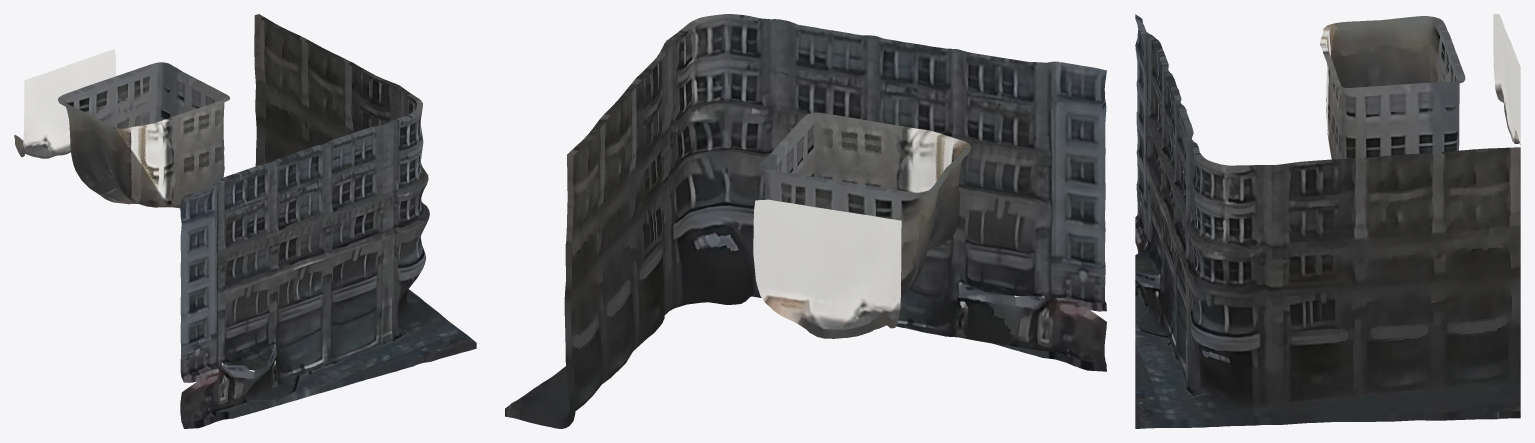
Rendered from z20-167747-405251-h0-yup-uvflip-v3-world.glb.
The picture shows the model from 3 angles, left to right: view 1: azimuth 30°, elevation 25°; view 2: azimuth 150°, elevation 25°; view 3: azimuth 270°, elevation 25°; orthographic projection. The views are drawn at different scales.
Bounding box in the file's own units: 30.2 × 23.08 × 30.32.
Materials: 1 (1 with a texture image).
